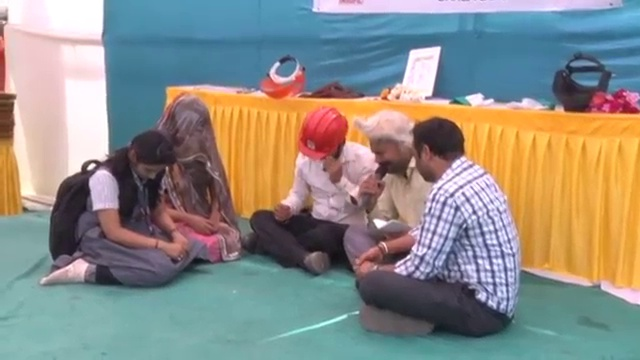helmet: (293, 107, 349, 163)
helmet_off: (360, 110, 416, 184), (157, 95, 217, 162), (411, 117, 468, 185), (123, 130, 175, 187)
helmet_on: (293, 109, 352, 173)
person: (353, 112, 525, 331), (42, 131, 196, 290), (242, 105, 381, 279), (142, 94, 243, 265), (340, 112, 432, 263)
